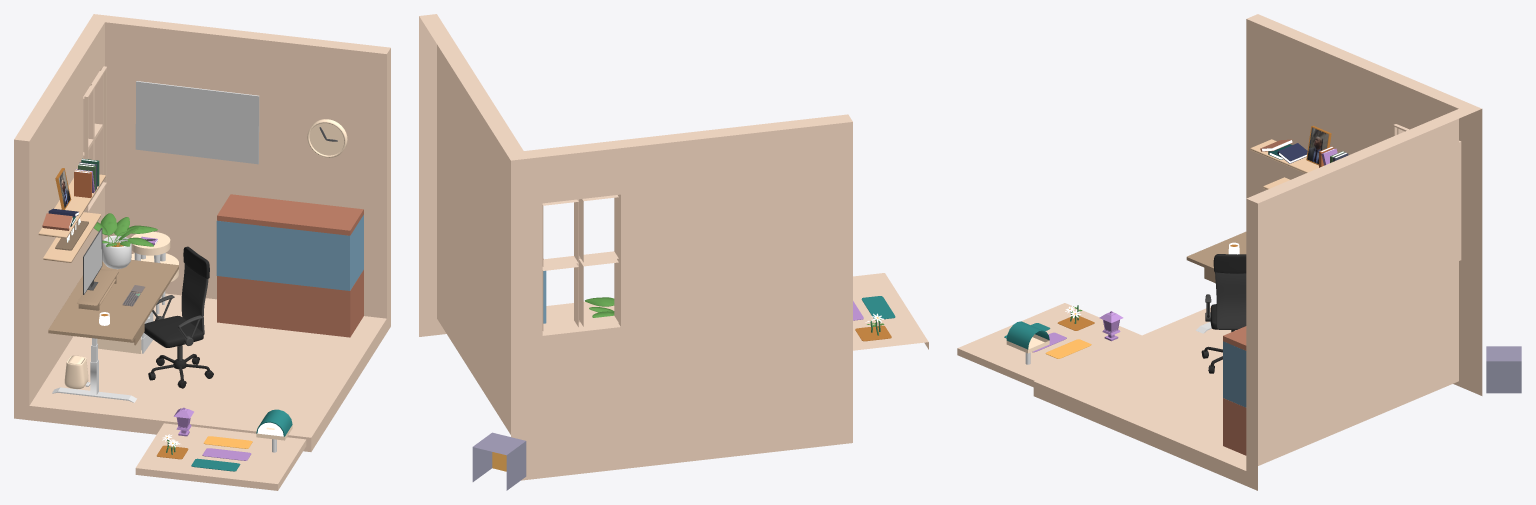
File: myRoom4.glb
3 renders of one model, left to right at view 1: azimuth 30°, elevation 25°; view 2: azimuth 150°, elevation 25°; view 3: azimuth 270°, elevation 25°, orthographic. The views are drawn at different scales.
Visible parts, largest first — view 1: Body, Aquarium, Shelves, Desks, Mini Floor, Chair, Table Stuff, Floor Items, Mail Box, Computer, Floor third, Floor second (+1 smaller); view 2: Body, Mini Floor, Cube; view 3: Body, Mini Floor, Aquarium, Chair, Shelves, Cube, Desks, Mail Box.
Boxes of the visible parts, box(x1,y1,x2,y2) form: Body: box(14, 14, 390, 451); Aquarium: box(216, 194, 363, 337); Shelves: box(38, 81, 347, 262); Desks: box(48, 231, 178, 402); Mini Floor: box(135, 423, 306, 490); Chair: box(144, 246, 209, 347); Table Stuff: box(76, 213, 157, 325); Floor Items: box(64, 312, 213, 389); Mail Box: box(256, 409, 292, 452); Computer: box(83, 228, 102, 294); Floor third: box(191, 458, 240, 471); Floor second: box(202, 448, 251, 460); Body: box(419, 14, 852, 480); Mini Floor: box(853, 273, 928, 350); Cube: box(472, 432, 526, 490); Body: box(1033, 14, 1482, 490); Mini Floor: box(957, 303, 1141, 387); Aquarium: box(1223, 326, 1246, 455); Chair: box(1205, 254, 1246, 329); Shelves: box(1250, 125, 1348, 189); Cube: box(1486, 346, 1521, 393); Desks: box(1186, 231, 1246, 333); Mail Box: box(1006, 321, 1049, 364).
Size of the model in its own units: 29.31 by 20.73 by 36.87.
44 materials, 1 textured.
